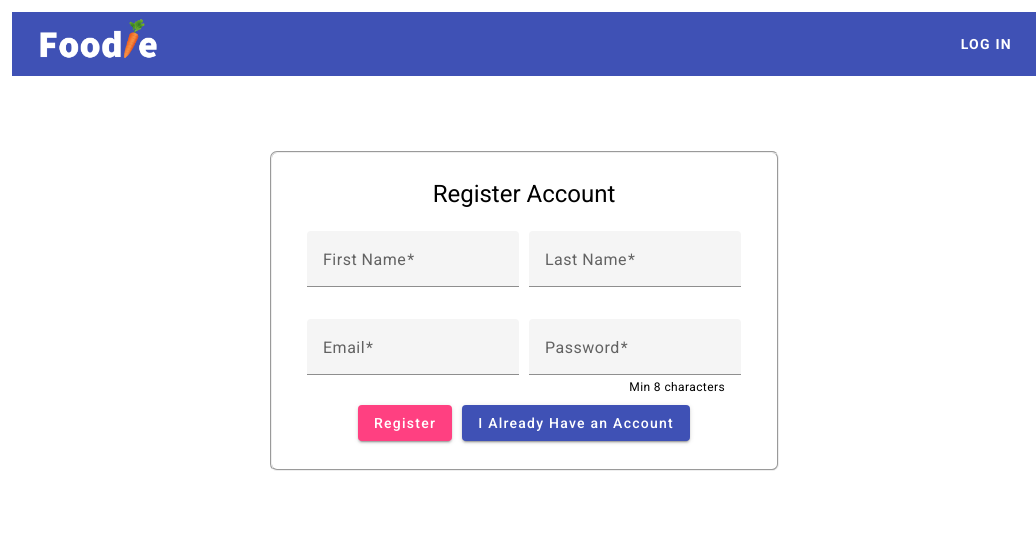
it: Test Register › Should not register if email is already in use
Type "Bill" into the element with id "register-first-name" at [413, 270], box [302, 226, 524, 314]
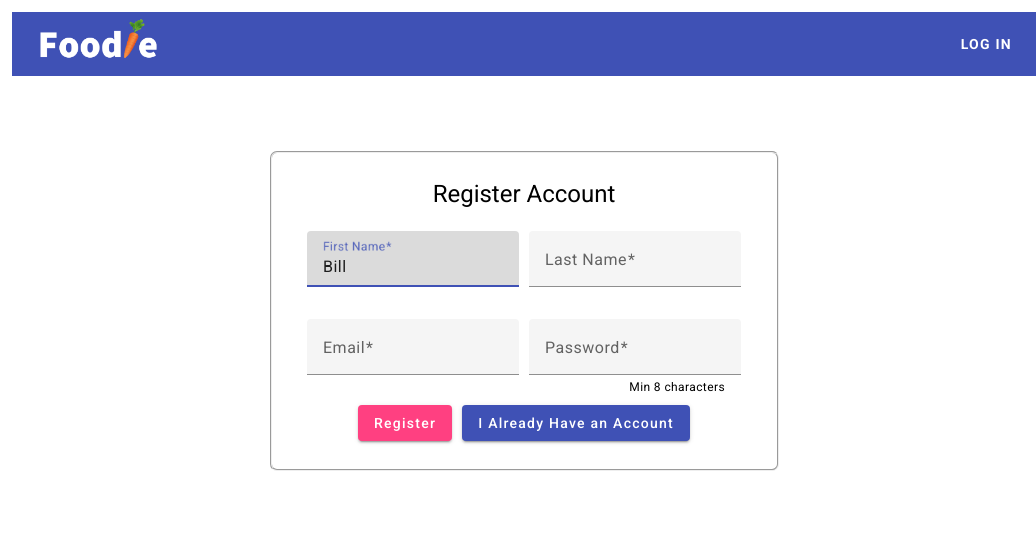
Type "Bob" into the element with id "register-last-name" at [635, 270], box [524, 226, 746, 314]
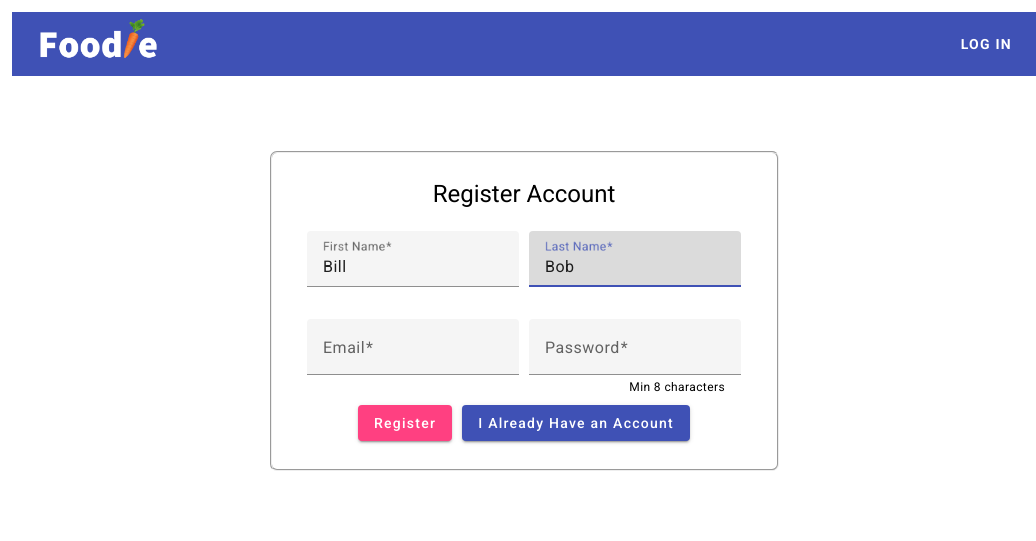
Type "testUser@email.com" into the element with id "register-email" at [413, 358], box [302, 314, 524, 402]
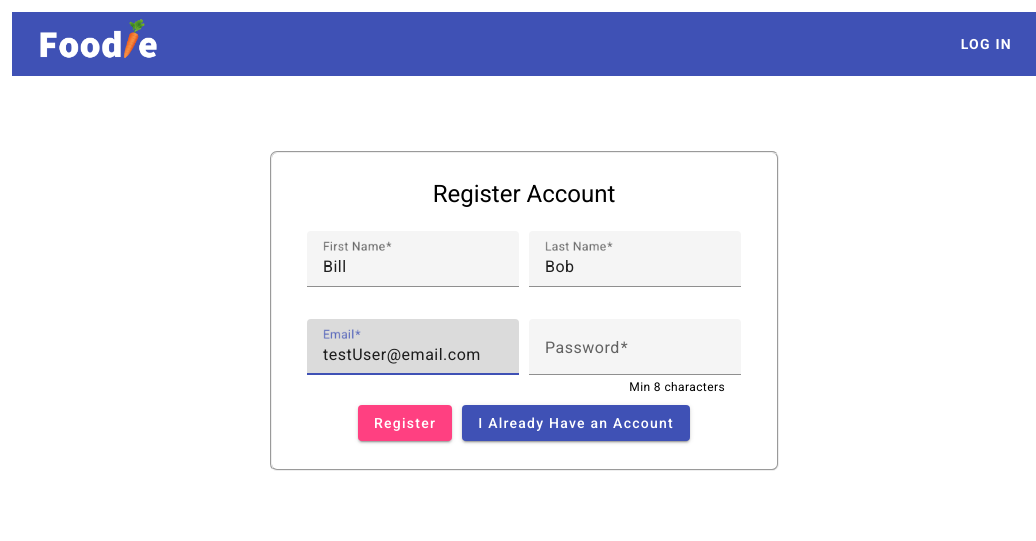
Type "password" into the element with id "register-password" at [635, 358], box [524, 314, 746, 402]
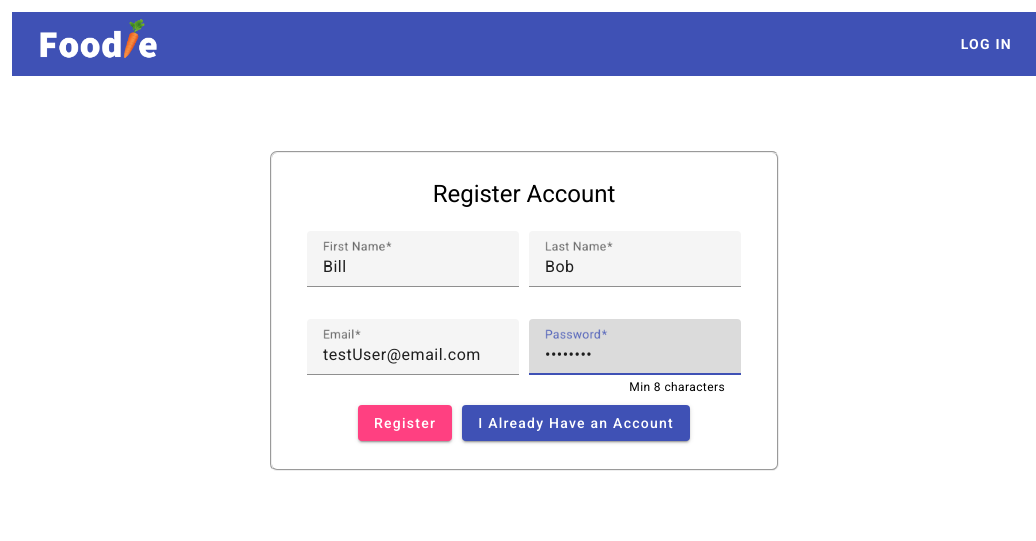
Click the button with id "register-button" at [405, 423], box [358, 405, 452, 441]
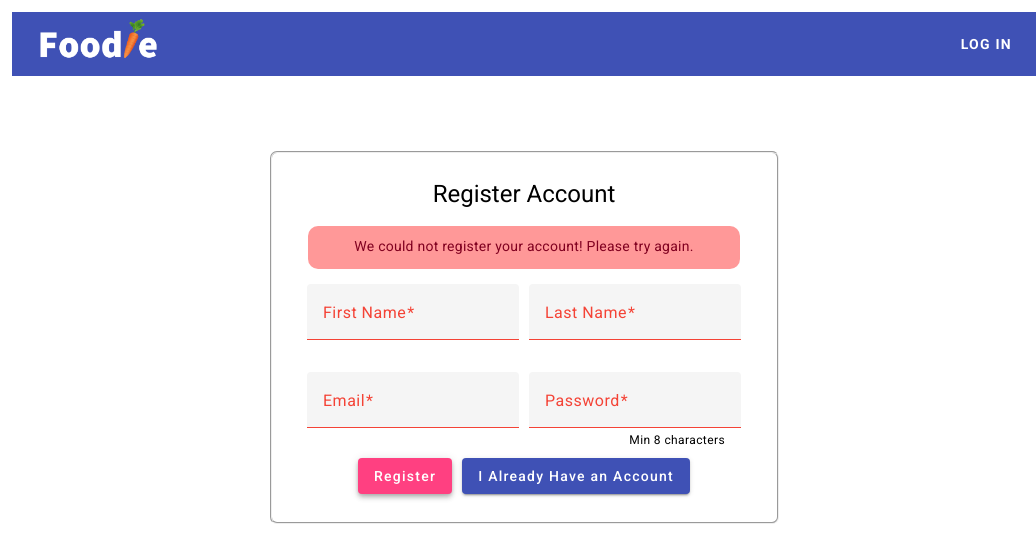
Now the element with class "errorTopper" is shown, box [308, 226, 740, 269]
Now the text "We could not register your account! Please try again." is shown, box [354, 238, 694, 254]
